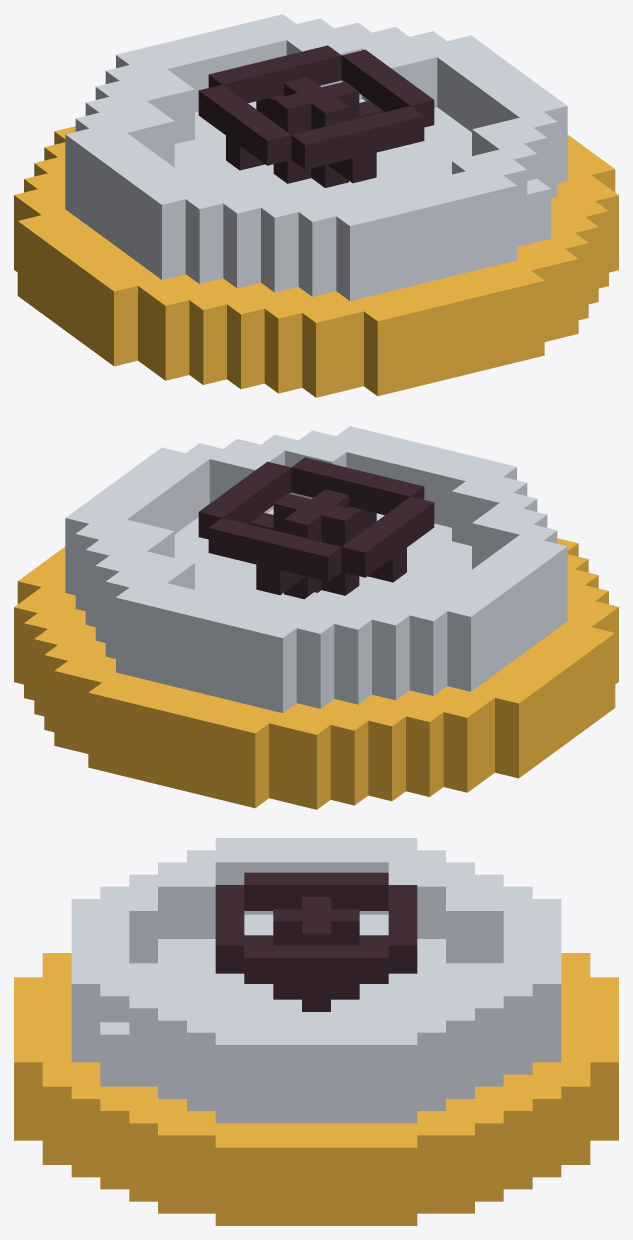
Rendered from Lake_IV_coupler.obj.
The picture shows the model from 3 angles, top to bottom: view 1: azimuth 30°, elevation 25°; view 2: azimuth 150°, elevation 25°; view 3: azimuth 270°, elevation 25°; orthographic projection. The views are drawn at different scales.
Bounding box in the file's own units: 2.1 × 0.7 × 2.1.
Materials: 1 (1 with a texture image).
